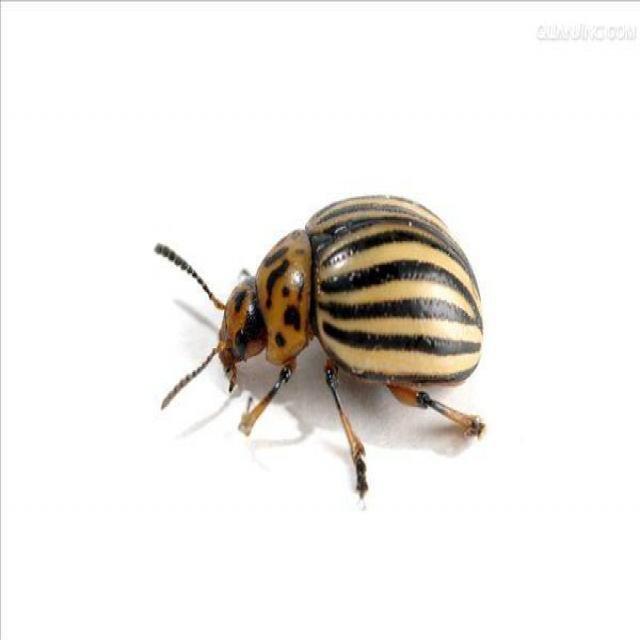ShuCaiHuaBanChong-Grown-: (190, 190, 482, 443)
